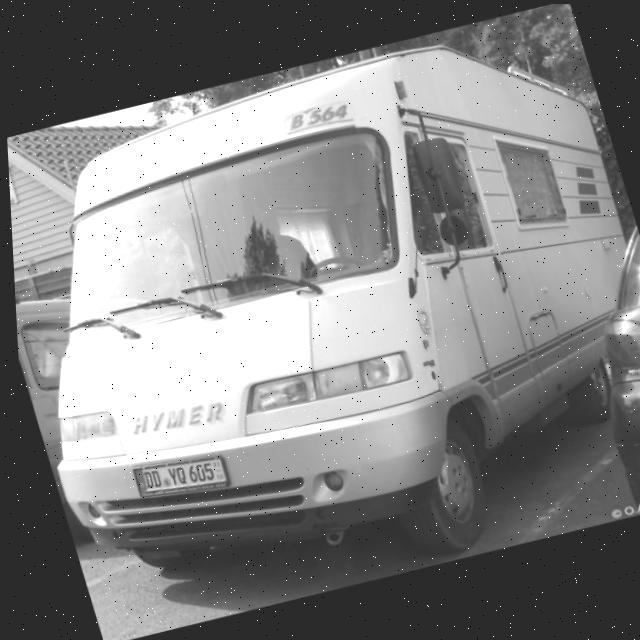license-plates: (133, 457, 229, 497)
